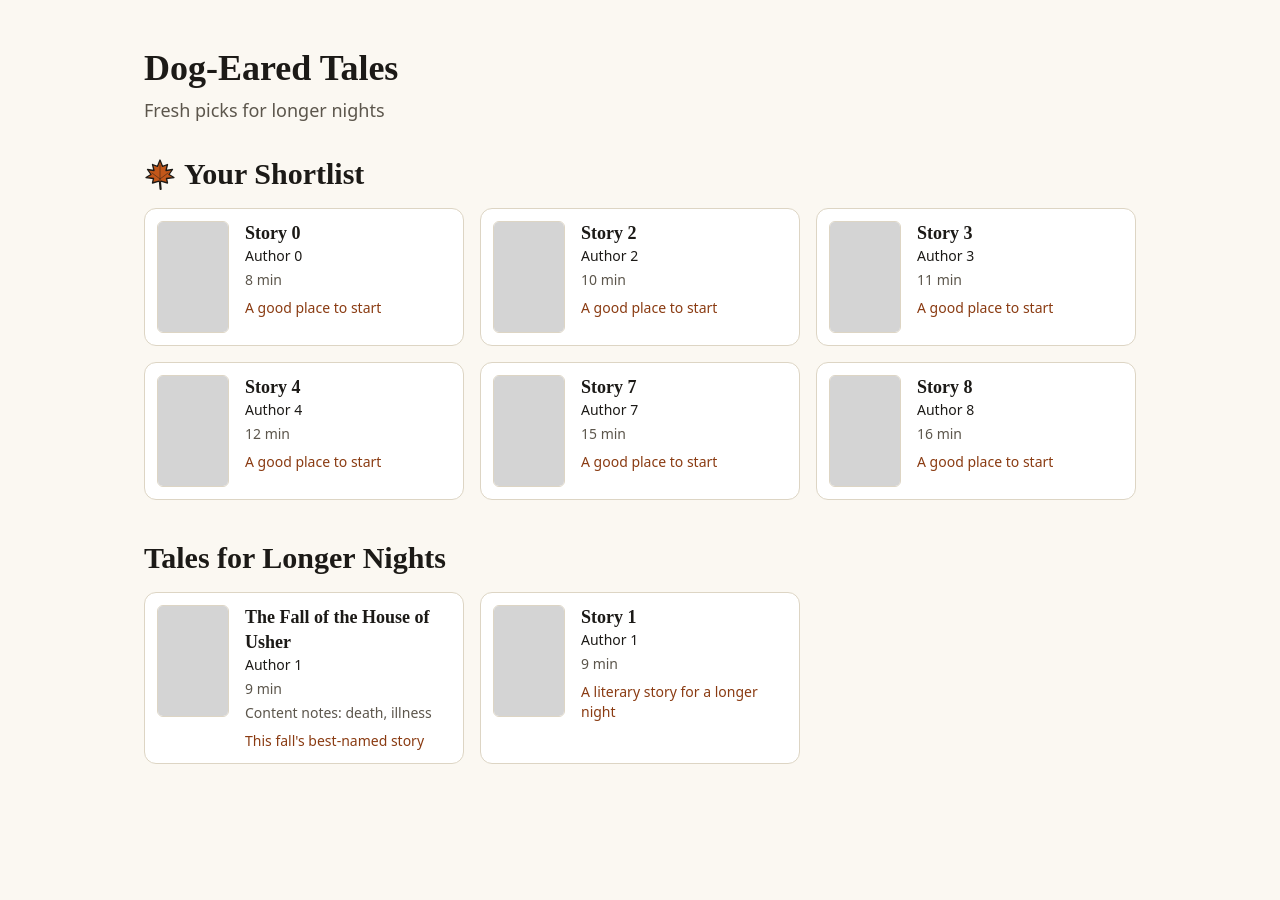
Tales for Longer Nights › leaves out works marked Not for me, and Not for me on a card removes it
This screenshot has width=1280, height=900.
expect the element "Tales for Longer Nights" does not show "Story 6": met, box [144,541,800,764]
Click the button "The Fall of the House of Usher" at (193,661), box [144,592,464,764]
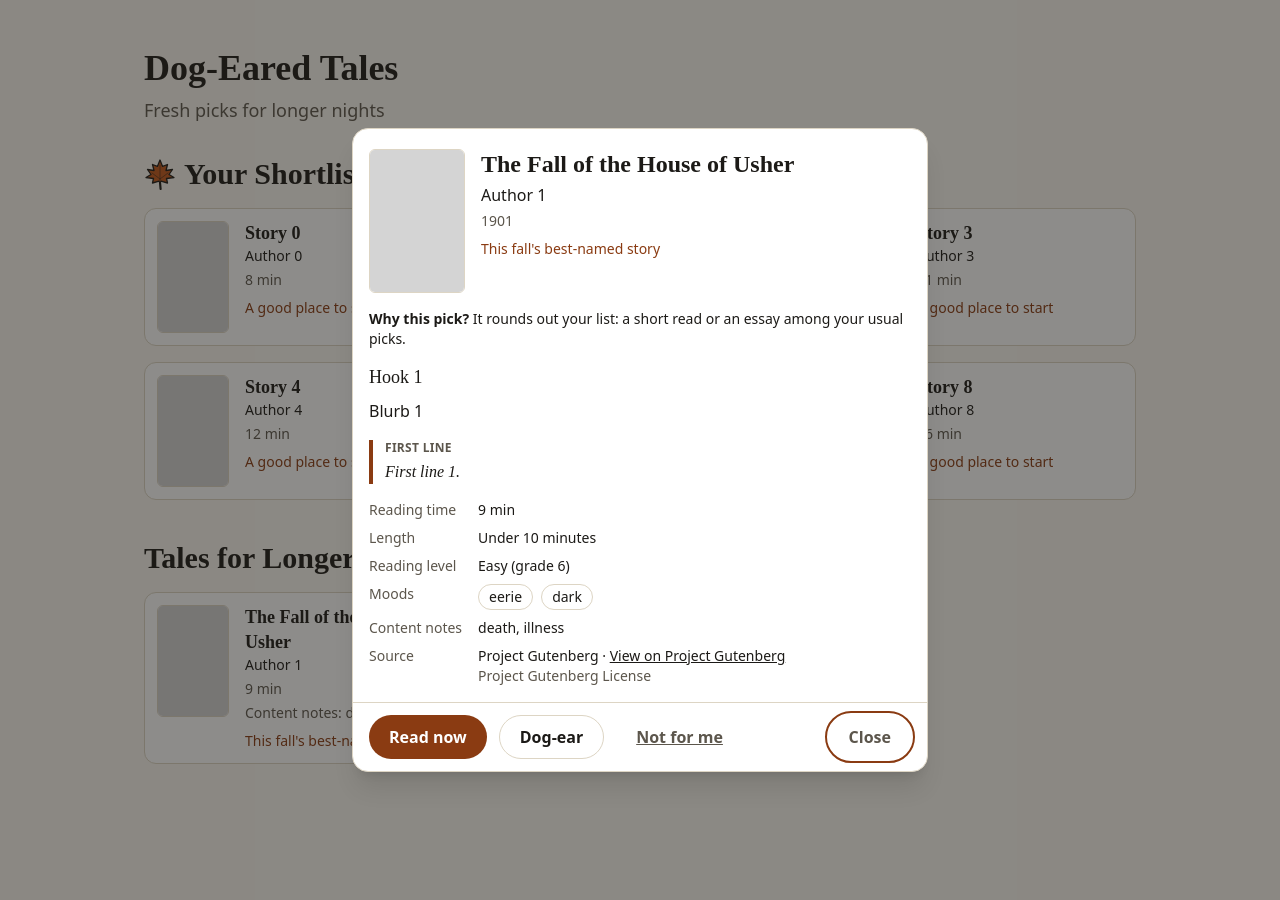
Click the button "Not for me" at (680,737), box [616,715,743,759]
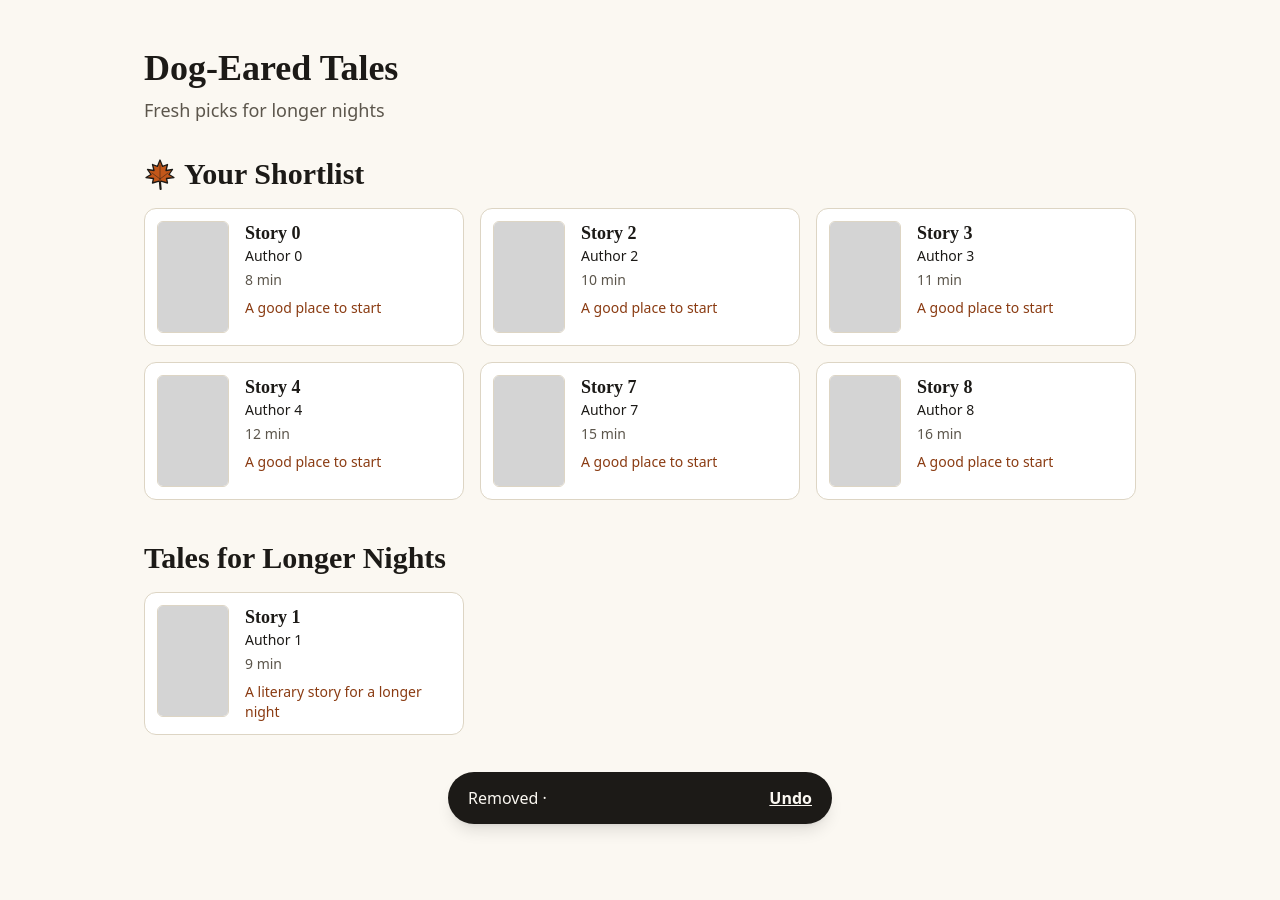
expect the element "Tales for Longer Nights" no longer shows "The Fall of the House of Usher": met, box [144,541,464,735]
